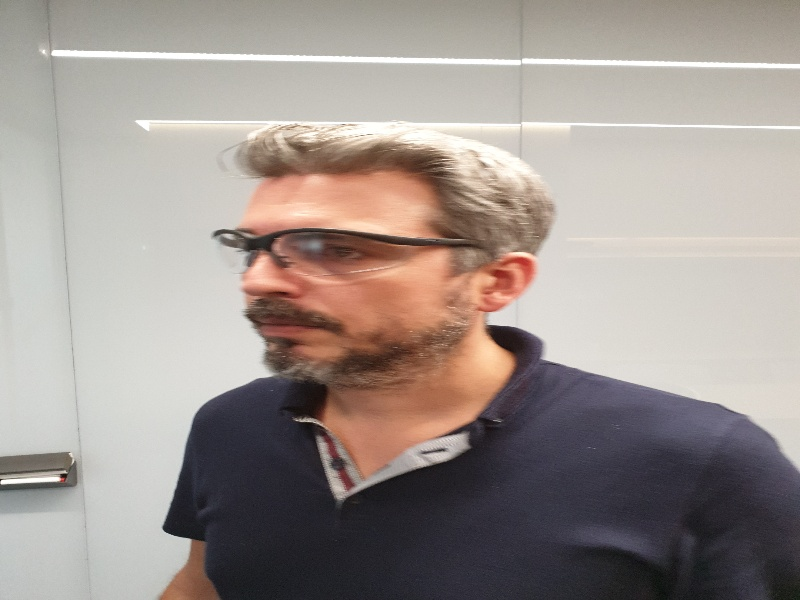Gozluk: (226, 226, 478, 278)
